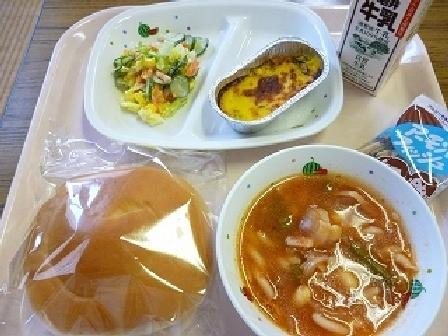Bread: (22, 152, 220, 334)
Milk: (333, 0, 436, 93)
Salad: (114, 26, 208, 118)
Soups: (235, 155, 434, 334)
casserole with meat and vegetables: (207, 29, 337, 132)
